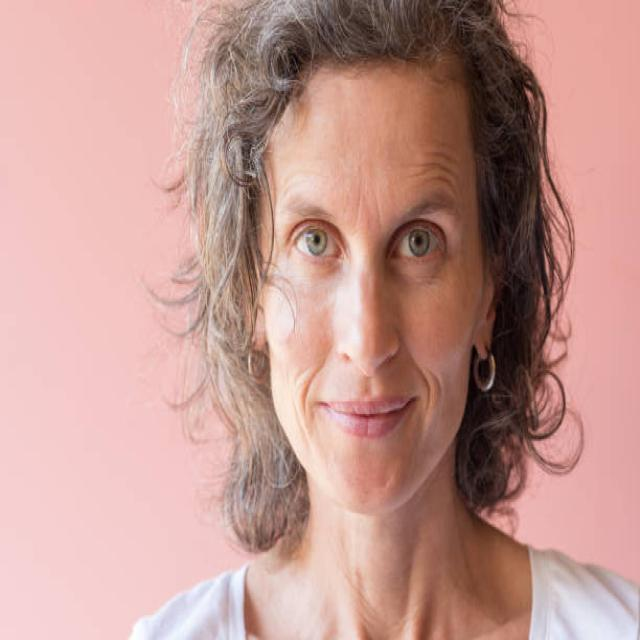Dry-Skin: (402, 278, 483, 442), (369, 76, 480, 192)
